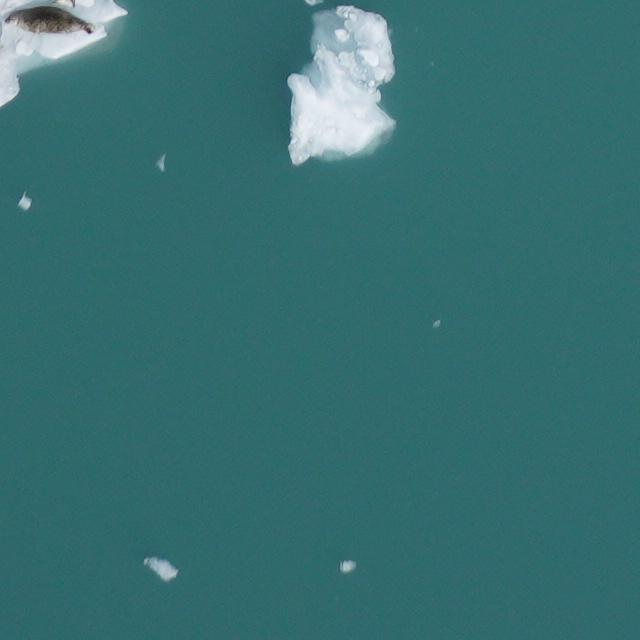seal: (3, 3, 97, 38)
